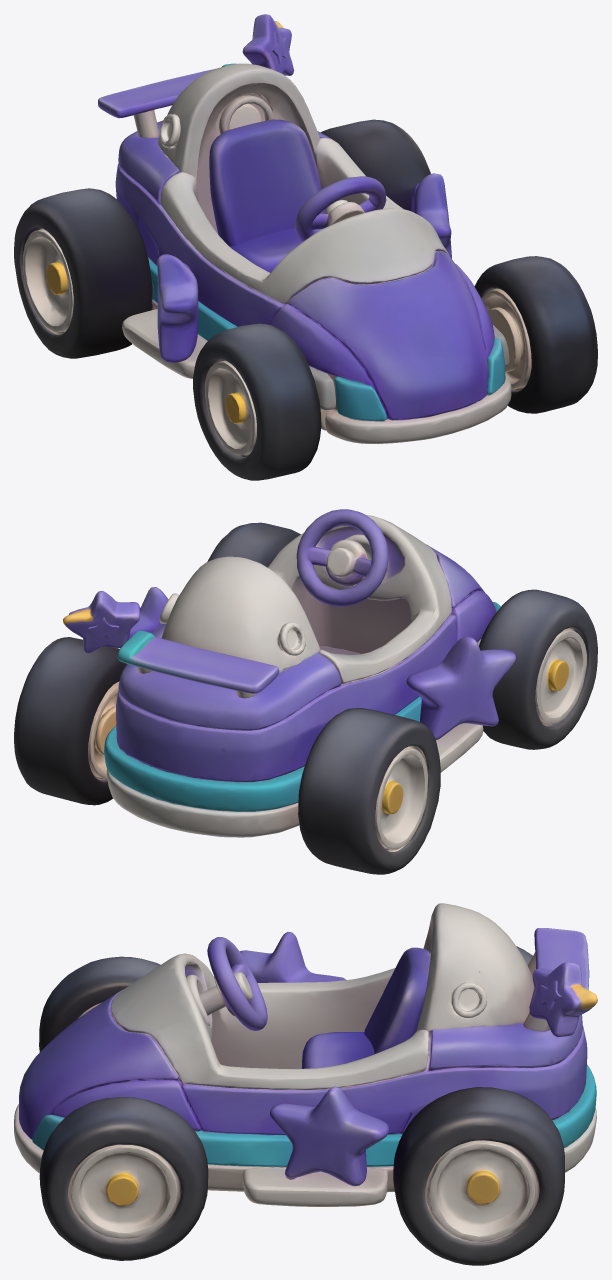
File: nova-cartoon-decimated.glb
The picture shows the model from 3 angles, top to bottom: view 1: azimuth 30°, elevation 25°; view 2: azimuth 150°, elevation 25°; view 3: azimuth 270°, elevation 25°; orthographic projection. The views are drawn at different scales.
Visible parts, largest first — view 1: model; view 2: model; view 3: model.
Boxes of the visible parts, x1,y1,x2,y2 form: model: (14, 14, 597, 480); model: (14, 509, 597, 874); model: (14, 903, 597, 1265).
Bounding box in the file's own units: 1.41 × 0.968 × 1.9.
Materials: 1 (1 with a texture image).
